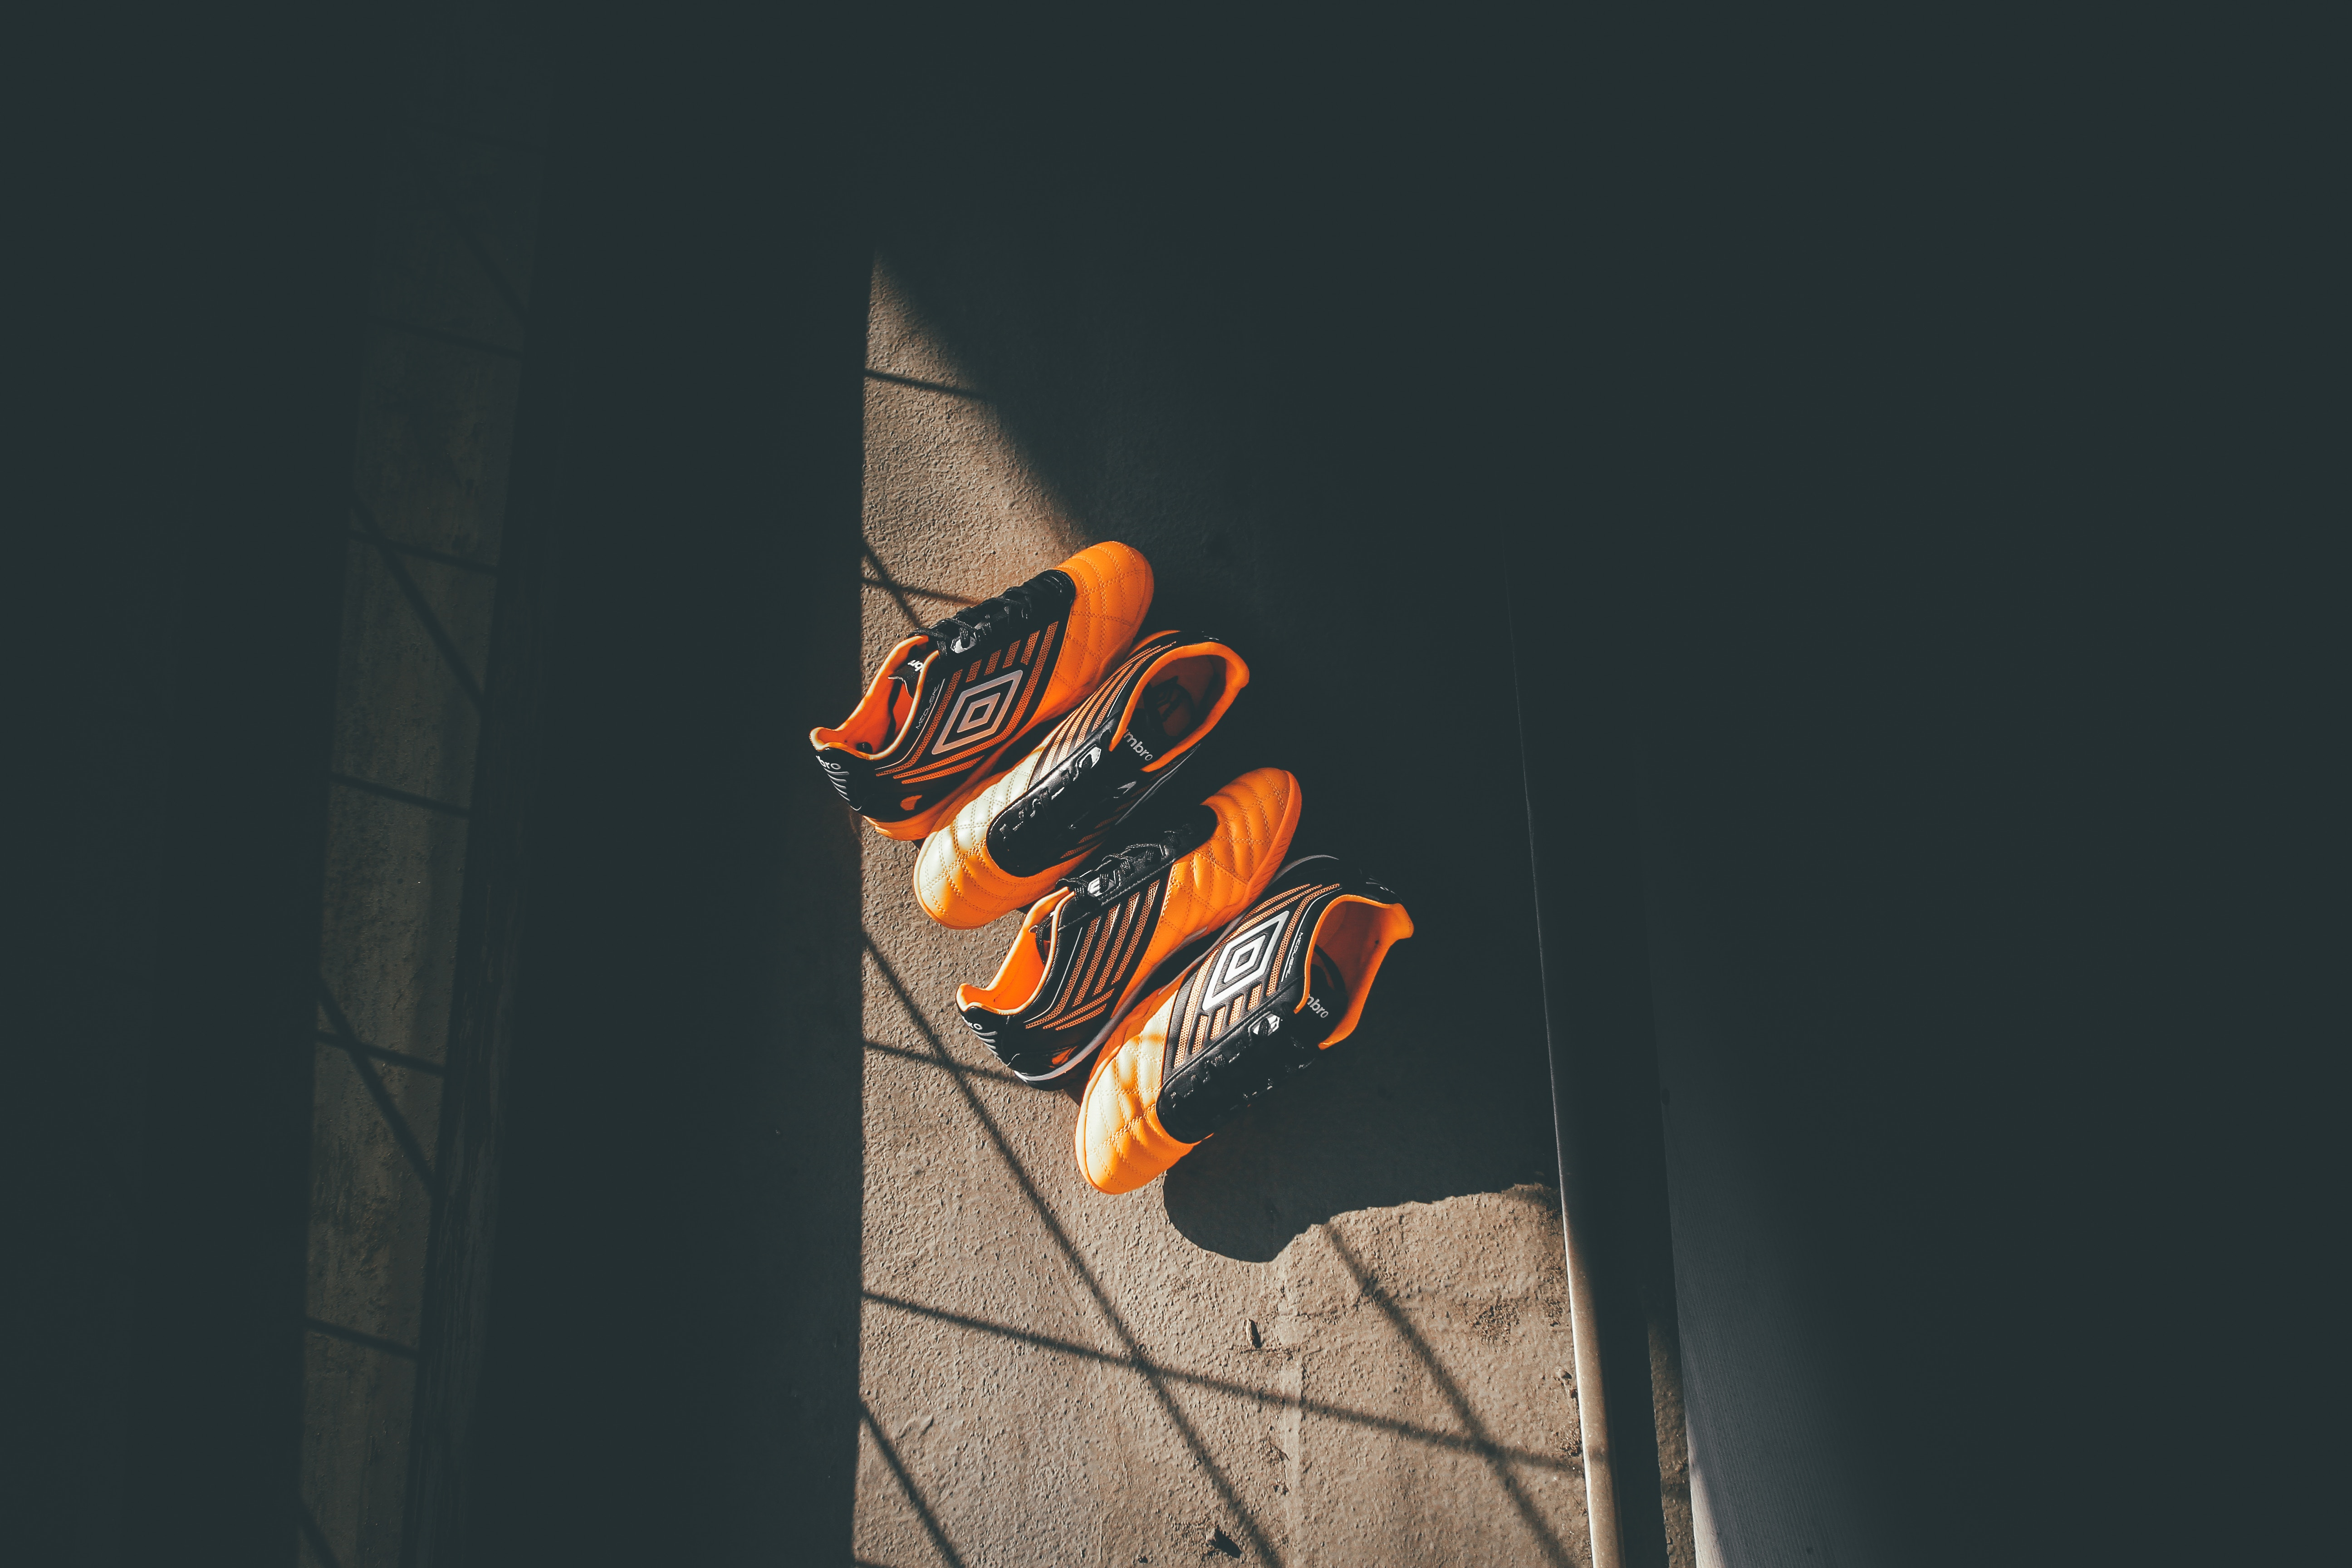soccer cleats: (779, 495, 1460, 1211)
